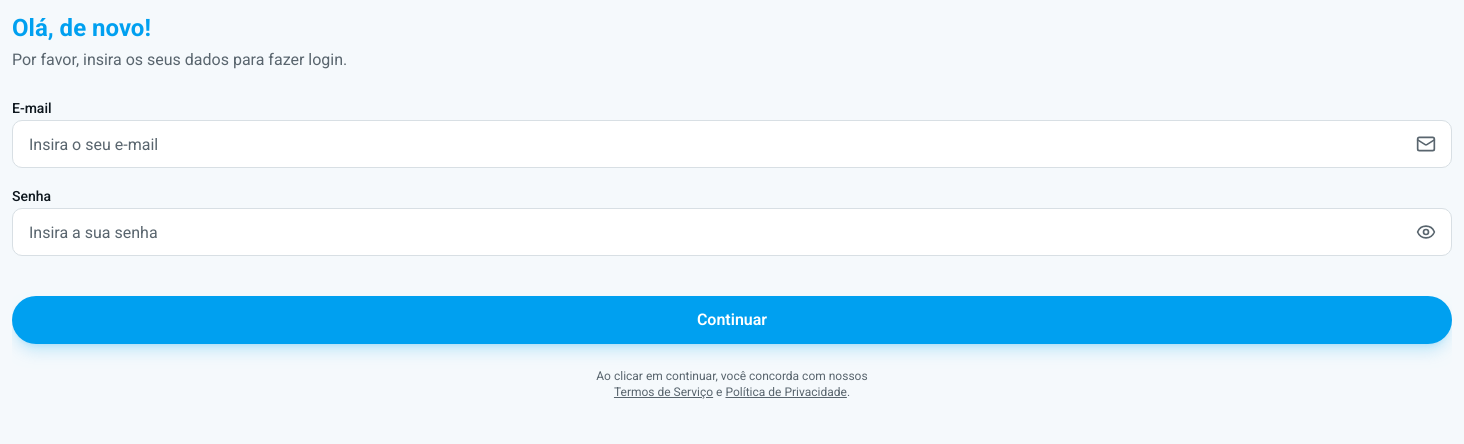
it: LoginTab › mostra erro de validação quando senha é curta
Type "user@mail.com" into the field with placeholder "Insira o seu e-mail".
click(732, 144); type("user@mail.com")  # box [12, 120, 1452, 168]
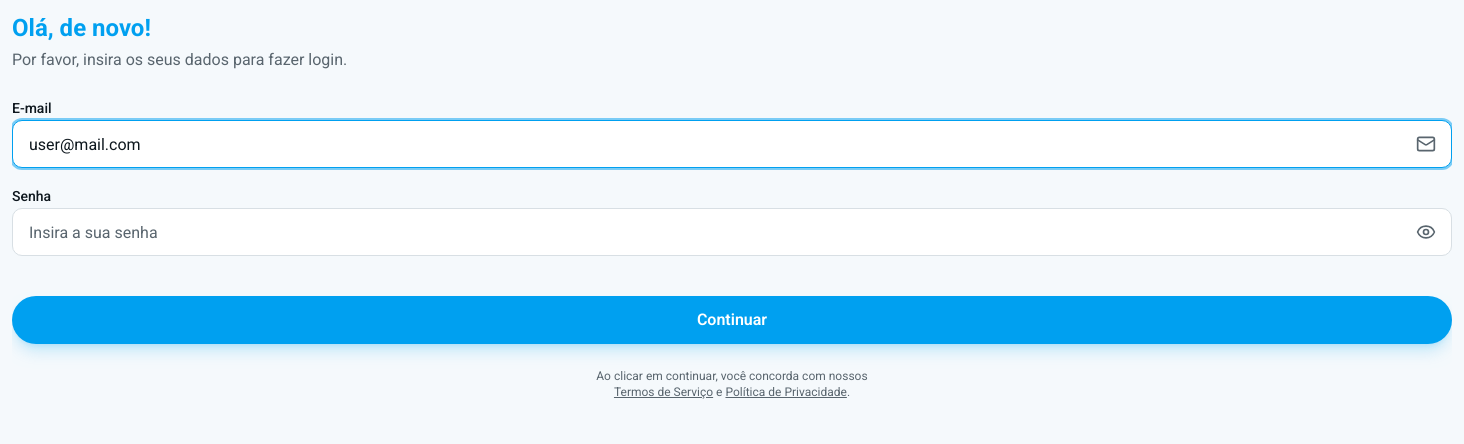
Type "123" into the password field with placeholder "Insira a sua senha".
click(732, 232); type("123")  # box [12, 208, 1452, 256]
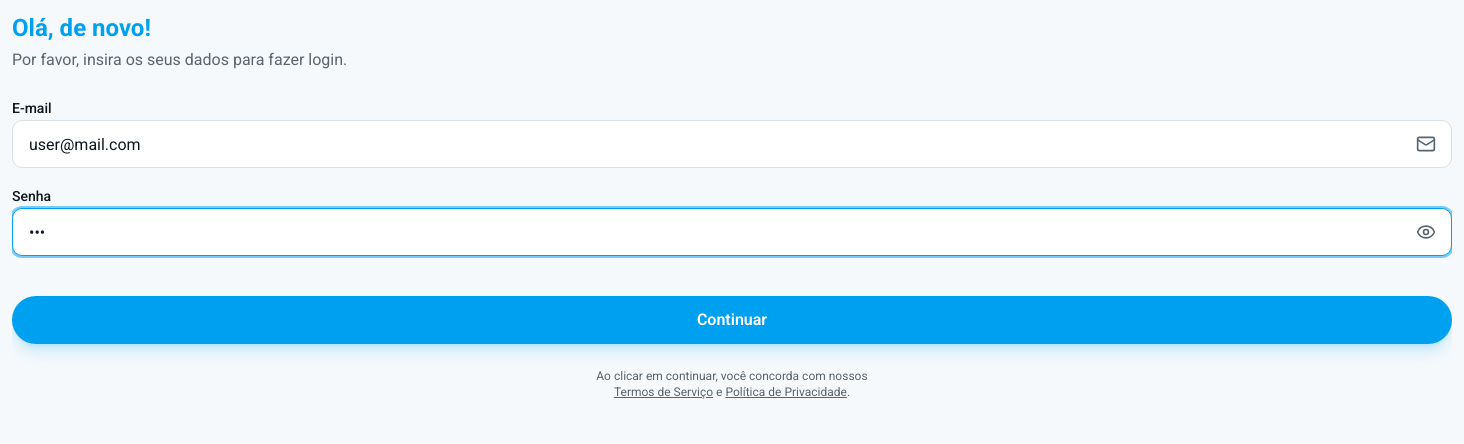
Click the button "Continuar".
click(732, 320)  # box [12, 296, 1452, 344]
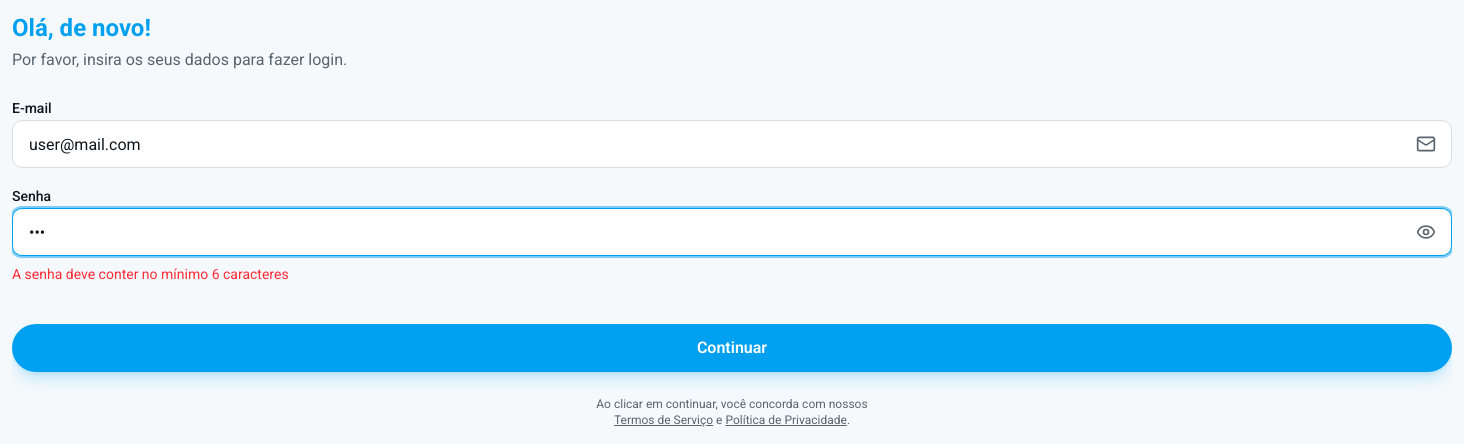
Expected: the text "A senha deve conter no mínimo 6 caracteres" is shown, [12, 266, 289, 282]
